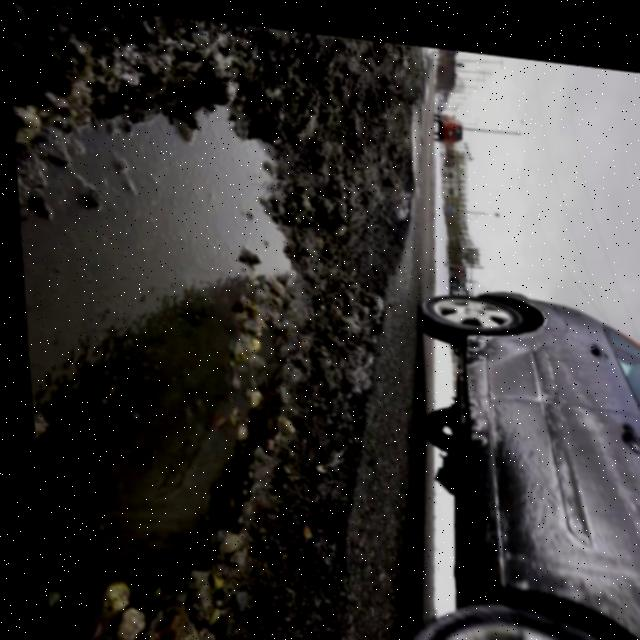Pothole: (3, 45, 395, 622)
